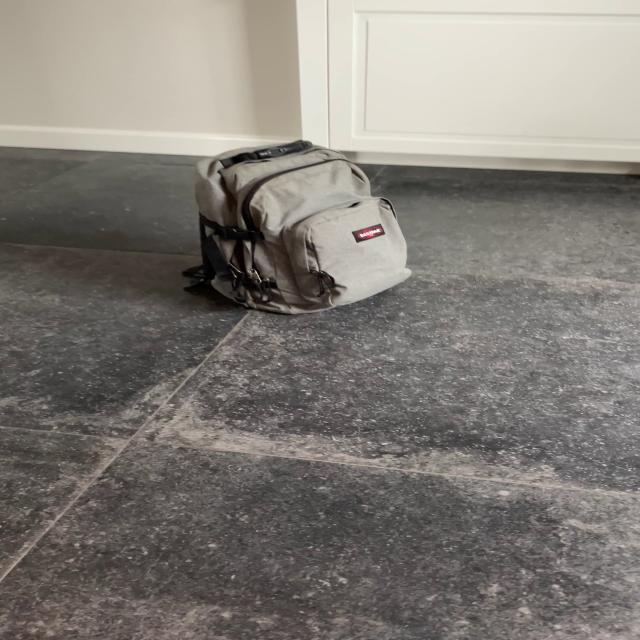backpack: (177, 134, 419, 321)
